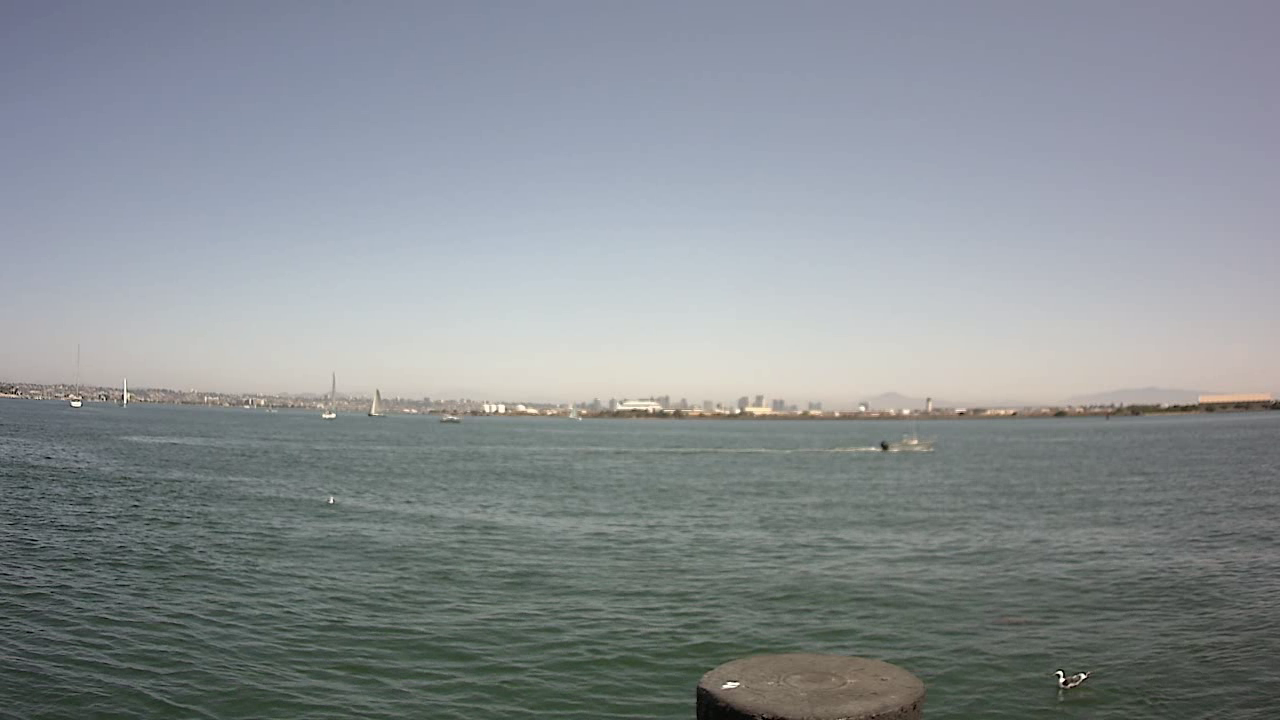target: (874, 425, 944, 456)
